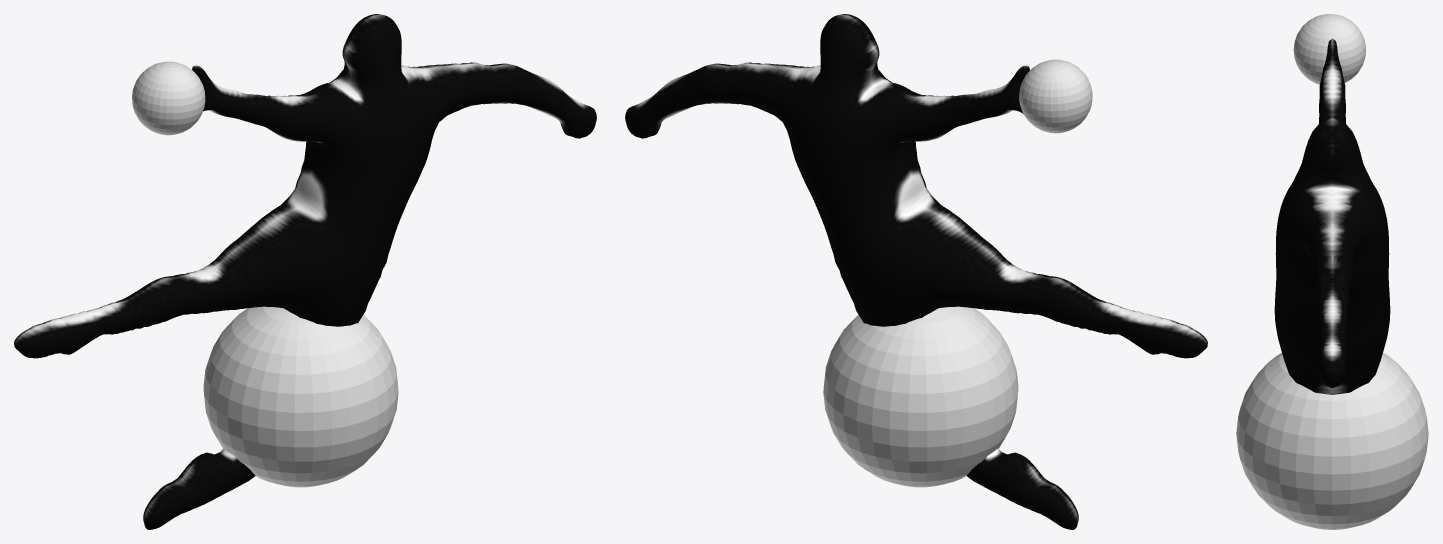
File: kezilabda.glb
3 renders of one model, left to right at view 1: azimuth 30°, elevation 25°; view 2: azimuth 150°, elevation 25°; view 3: azimuth 270°, elevation 25°, orthographic.
Parts seen in each view (by area): view 1: body, Sphere.001, Sphere; view 2: body, Sphere.001, Sphere; view 3: body, Sphere.001, Sphere.
Boxes of the visible parts, left/top/right/bottom form: body: left=14, top=14, right=596, bottom=529; Sphere.001: left=203, top=306, right=398, bottom=487; Sphere: left=132, top=61, right=205, bottom=135; body: left=625, top=14, right=1207, bottom=529; Sphere.001: left=823, top=306, right=1018, bottom=487; Sphere: left=1019, top=59, right=1092, bottom=133; body: left=1274, top=38, right=1390, bottom=394; Sphere.001: left=1236, top=353, right=1428, bottom=529; Sphere: left=1293, top=14, right=1365, bottom=84.
Size of the model in its own units: 6.87 by 5.21 by 2.
Materials: 1 (1 with a texture image).
